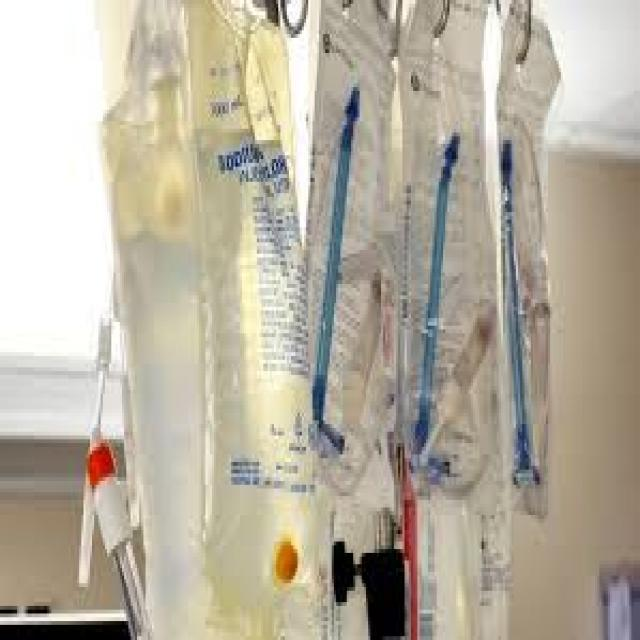iv_fluids: (178, 11, 571, 599)
